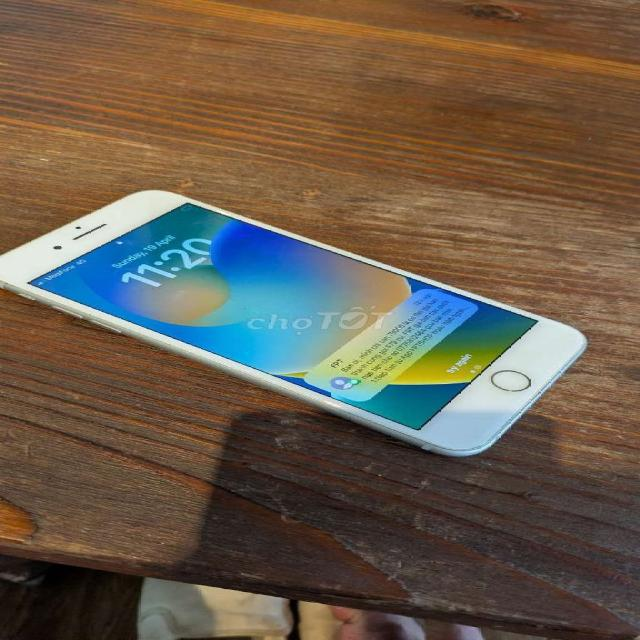gen_7_8: (0, 187, 589, 462)
